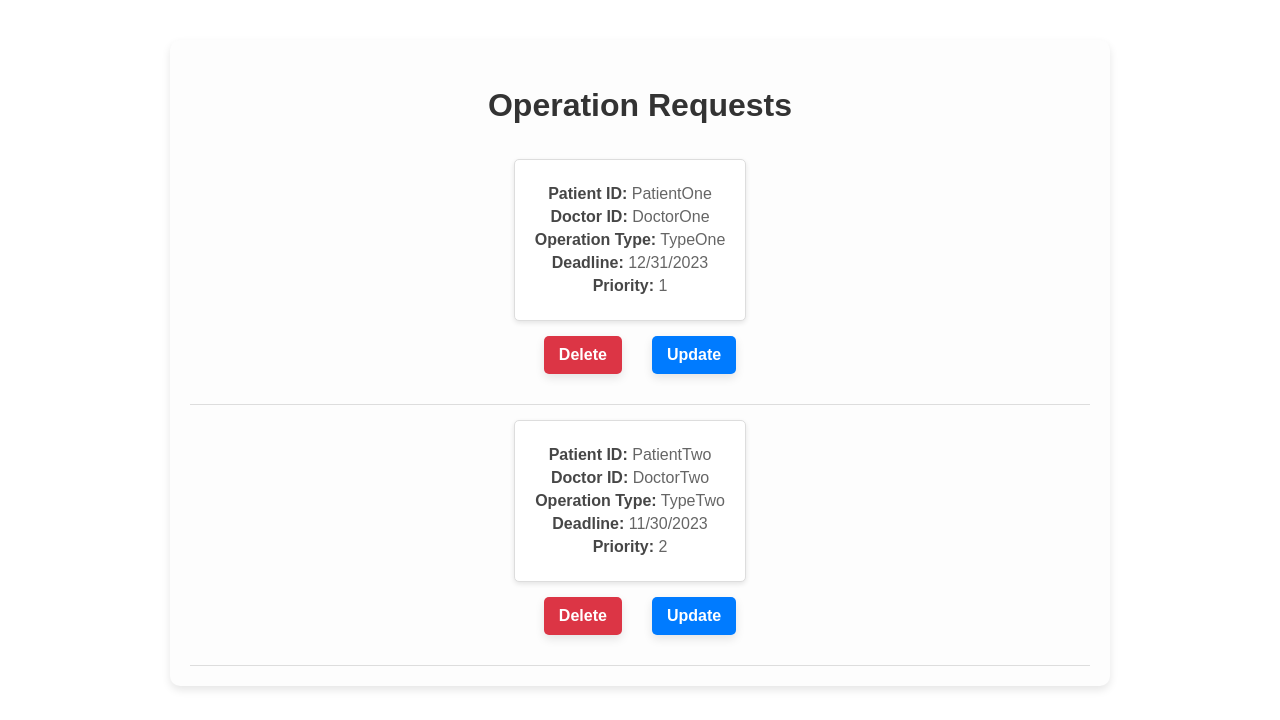
it: OperationRequestList Component › handles update operation request interaction
Expected: the text "PatientOne" is shown, [632,184,712,202]
Click the button "Update" below "PatientOne".
click(694, 354)  # box [652,336,736,374]
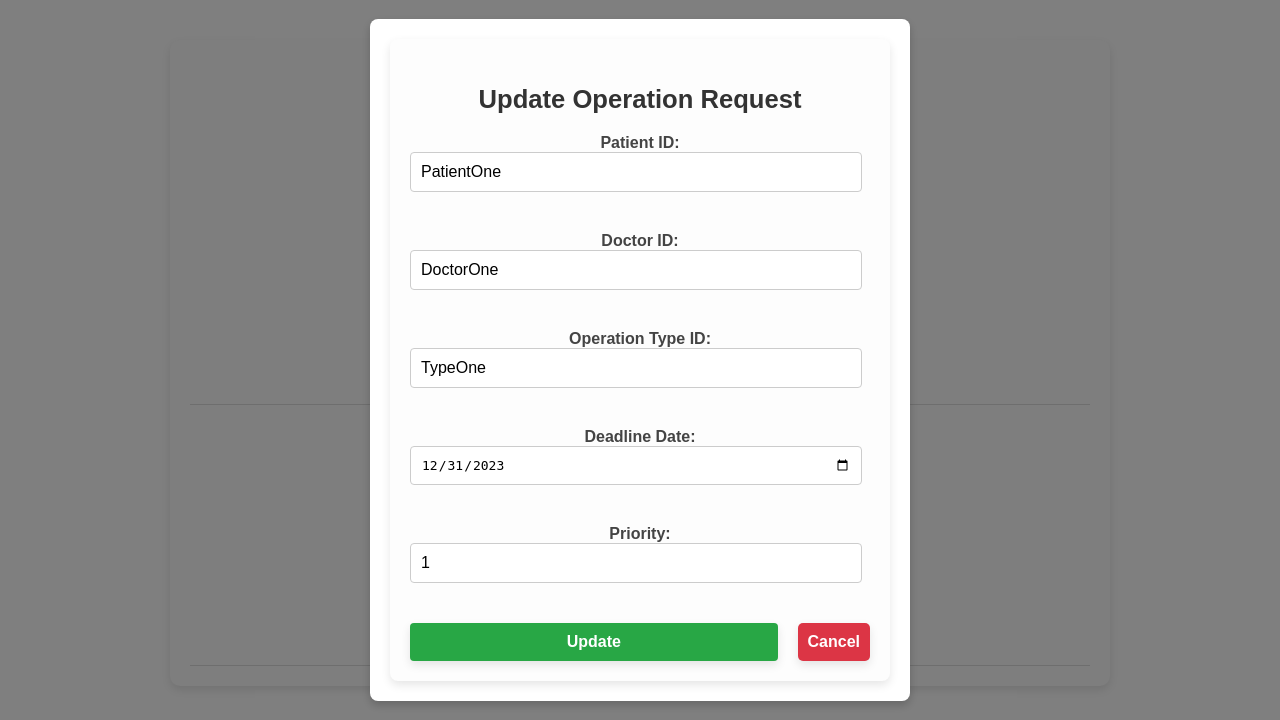
Now the heading "Update Operation Request" is shown, box [479,85,801,113]
